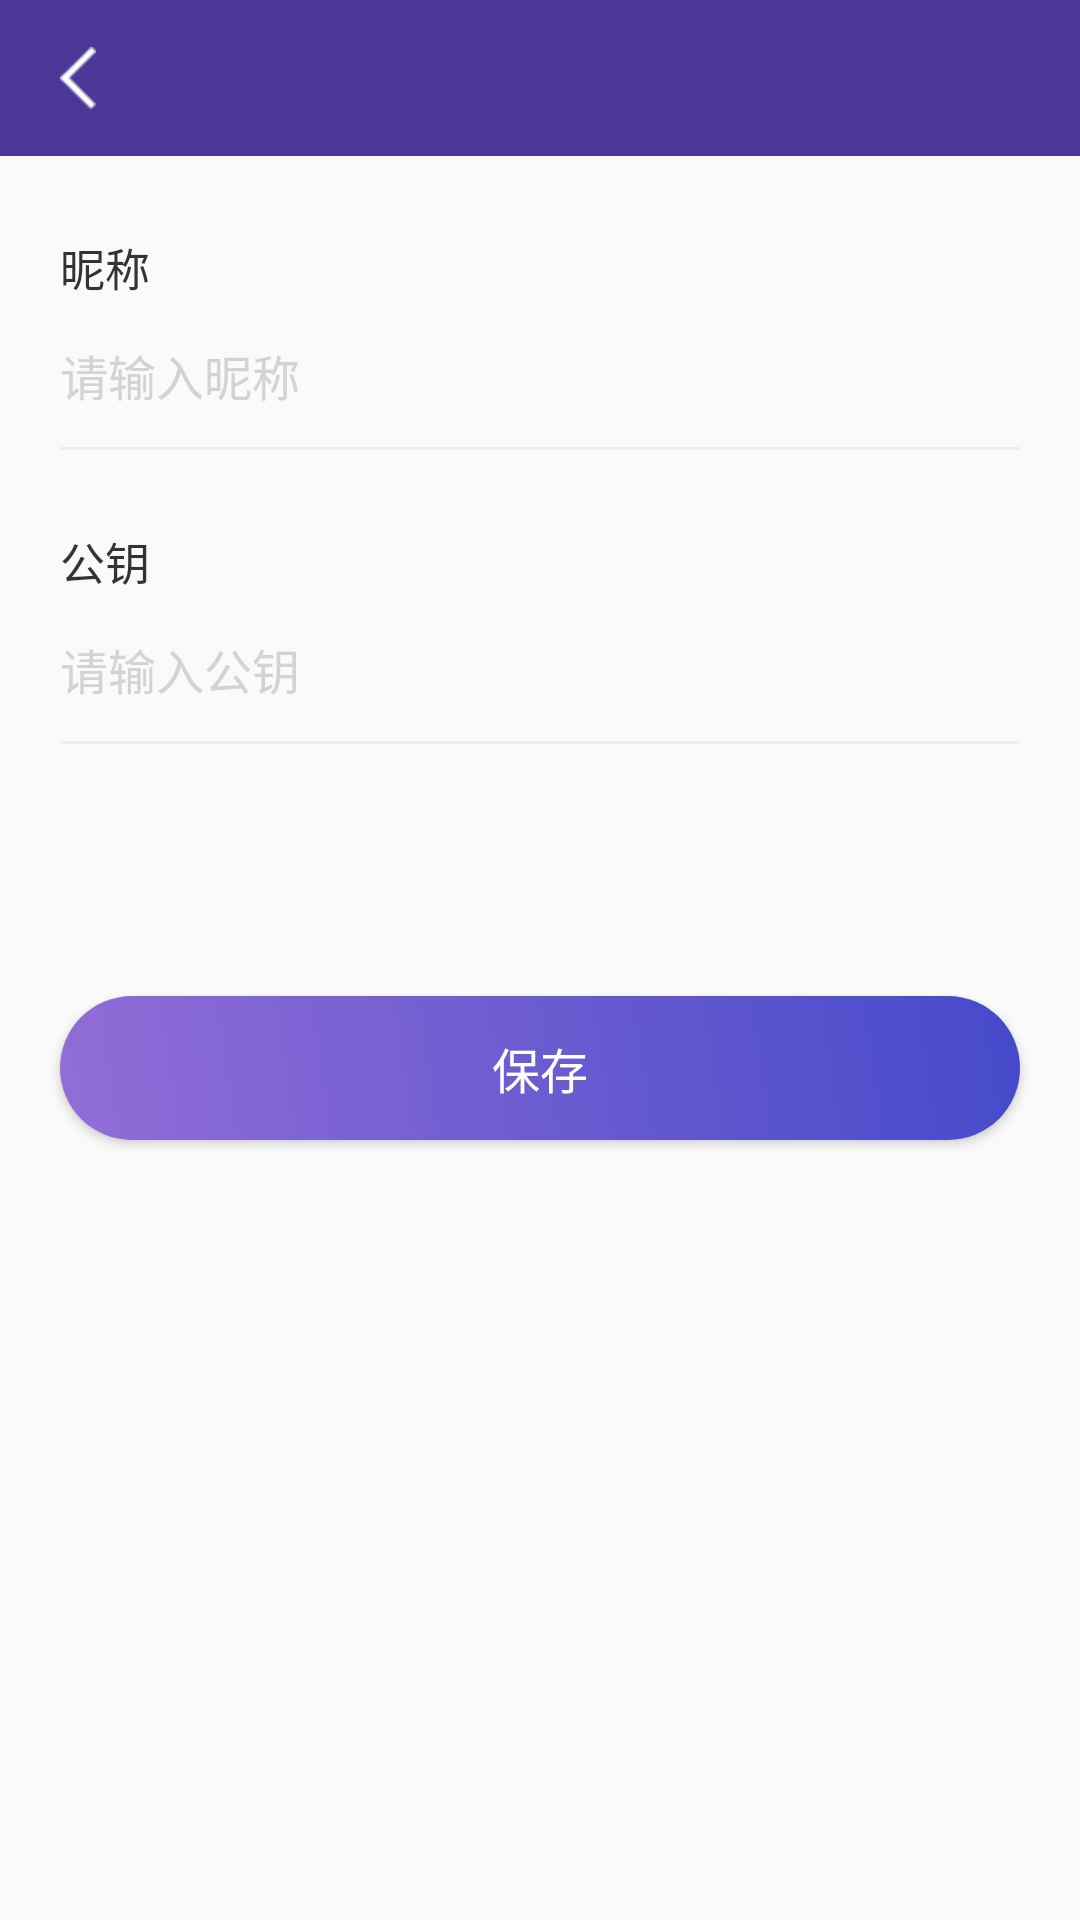

Screen size 1080 × 1920. Icon name, then its box in pixels as (x1, y1, x2, y2):
title back: (60, 47, 96, 109)
